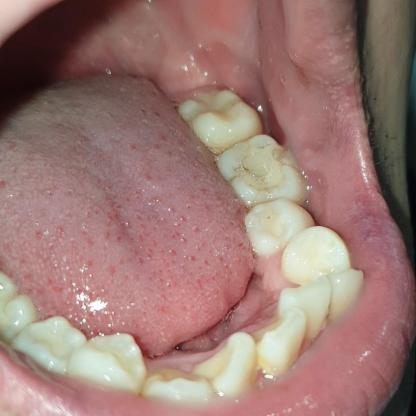Crowding: (240, 197, 348, 282), (256, 278, 336, 374)
